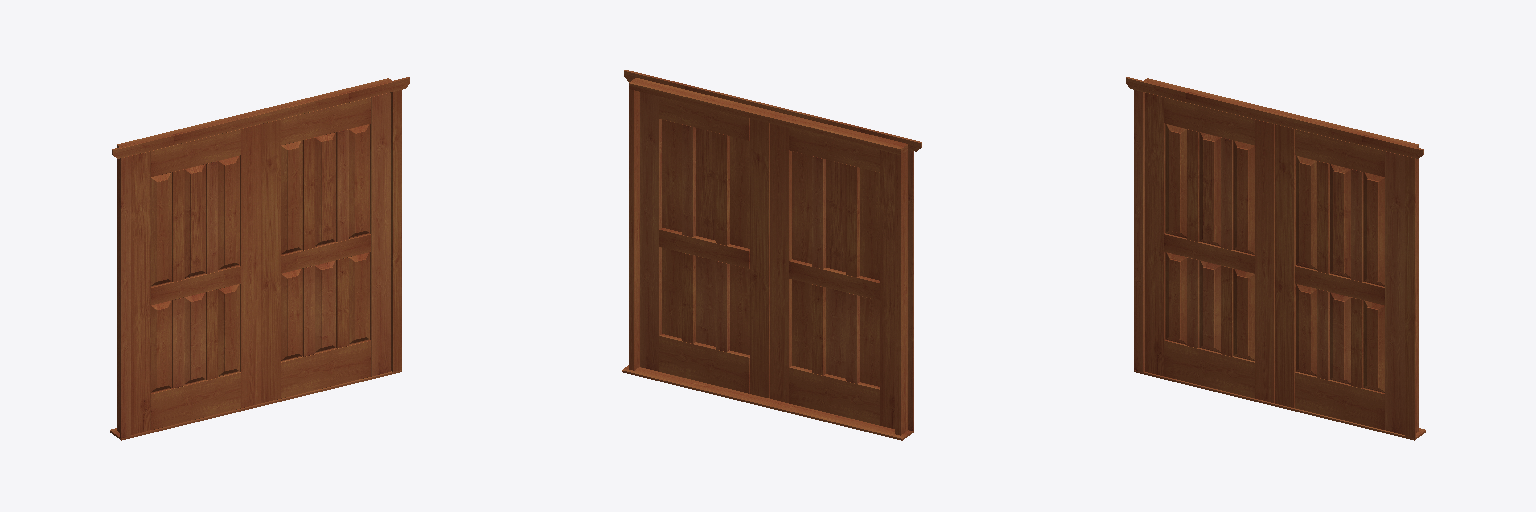
The picture shows the model from 3 angles: view 1: azimuth 30°, elevation 25°; view 2: azimuth 150°, elevation 25°; view 3: azimuth 330°, elevation 25°; orthographic projection.
Parts seen in each view (by area): view 1: door_right, door_right001, door_left, door_left001, trim_top, door_bottom, door_bottom001, trim_left, trim_right, panel_extruded002, panel_extruded003, panel_extruded011 (+24 smaller); view 2: door_right, door_right001, door_left001, door_left, box_left, box_top, door_bottom, door_bottom001, box_right, threshold, panel_extruded011, panel_extruded003 (+24 smaller); view 3: door_left001, door_right001, door_right, door_left, door_bottom, trim_top, door_bottom001, trim_right, trim_left, panel_extruded001, panel_extruded010, panel_extruded002 (+24 smaller).
Boxes of the visible parts, box(x1,y1,x2,y2) form: door_right: box(240, 124, 260, 407); door_right001: box(370, 93, 390, 376); door_left: box(131, 151, 150, 434); door_left001: box(261, 119, 280, 402); trim_top: box(112, 77, 409, 158); door_bottom: box(151, 372, 240, 429); door_bottom001: box(281, 340, 370, 398); trim_left: box(120, 156, 130, 438); trim_right: box(391, 90, 401, 371); panel_extruded002: box(184, 164, 205, 278); panel_extruded003: box(218, 156, 239, 269); panel_extruded011: box(281, 140, 302, 254); door_right: box(770, 124, 791, 402); door_right001: box(640, 92, 661, 371); door_left001: box(750, 119, 769, 397); door_left: box(880, 150, 894, 428); box_left: box(895, 150, 907, 435); box_top: box(629, 78, 907, 154); door_bottom: box(789, 366, 879, 425); door_bottom001: box(659, 334, 749, 393); box_right: box(629, 89, 639, 370); threshold: box(622, 365, 913, 440); panel_extruded011: box(730, 136, 749, 248); panel_extruded003: box(792, 151, 811, 263); door_left001: box(1275, 124, 1295, 407); door_right001: box(1385, 151, 1404, 434); door_right: box(1255, 119, 1274, 402); door_left: box(1145, 93, 1164, 375); door_bottom: box(1164, 340, 1254, 398); trim_top: box(1126, 77, 1423, 158); door_bottom001: box(1295, 372, 1384, 429); trim_right: box(1405, 156, 1415, 438); trim_left: box(1134, 90, 1144, 371); panel_extruded001: box(1165, 124, 1186, 238); panel_extruded010: box(1363, 172, 1384, 286); panel_extruded002: box(1199, 132, 1220, 246).
Size of the model in its own units: 79.52 by 74.75 by 5.61.
Materials: 8 (8 with a texture image).